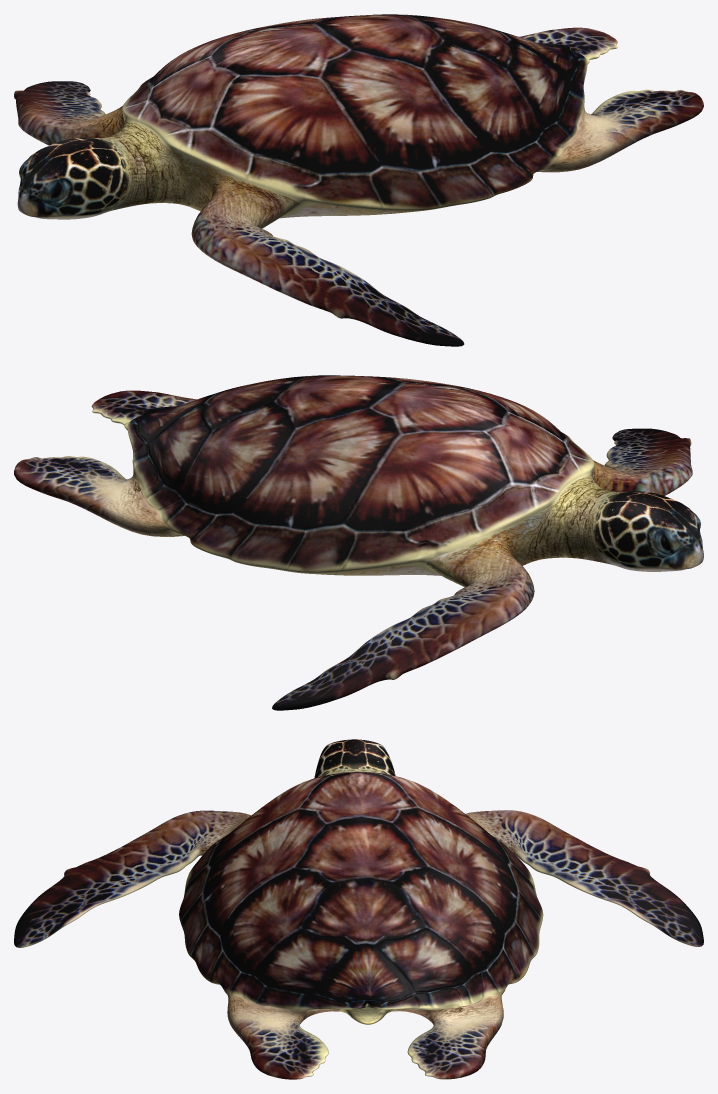
The model's file is turtle.obj.
3 views of the same model, one above another, from view 1: azimuth 30°, elevation 25°; view 2: azimuth 150°, elevation 25°; view 3: azimuth 270°, elevation 25° (orthographic). The views are drawn at different scales.
Visible parts, largest first — view 1: turtle; view 2: turtle; view 3: turtle.
Boxes of the visible parts, bbox=[...] form: turtle: bbox=[14, 14, 703, 346]; turtle: bbox=[14, 375, 703, 710]; turtle: bbox=[14, 739, 703, 1079].
Size of the model in its own units: 17.74 by 4.55 by 17.64.
Materials: 1 (1 with a texture image).
